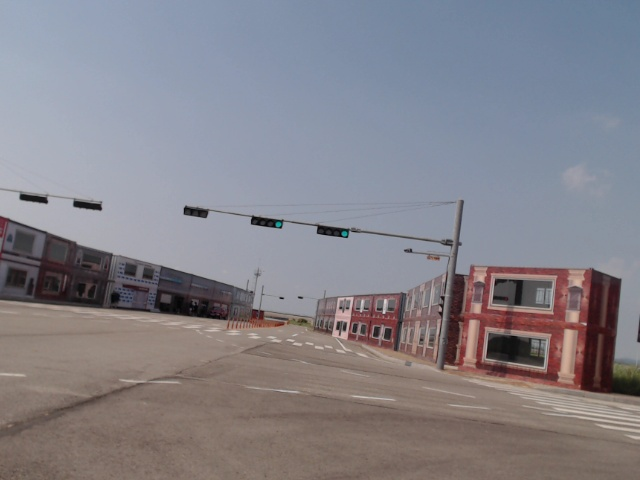straight_green_4: (249, 217, 284, 229), (318, 225, 350, 238)
